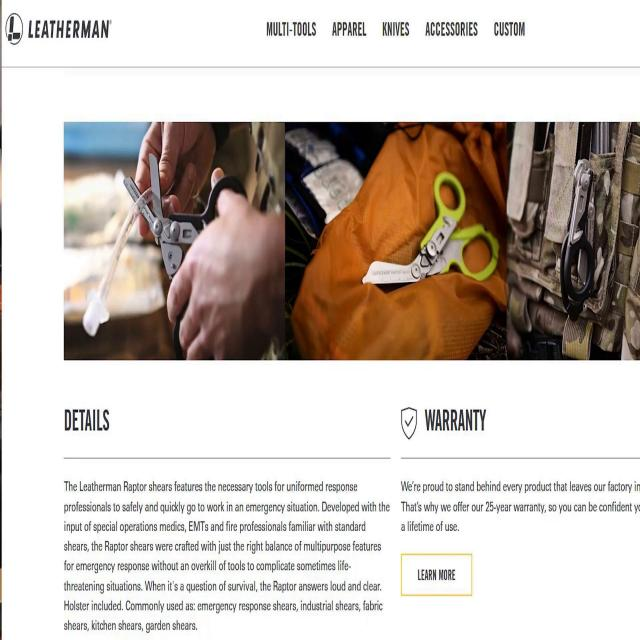scissor: (123, 154, 248, 360), (362, 173, 499, 284)
